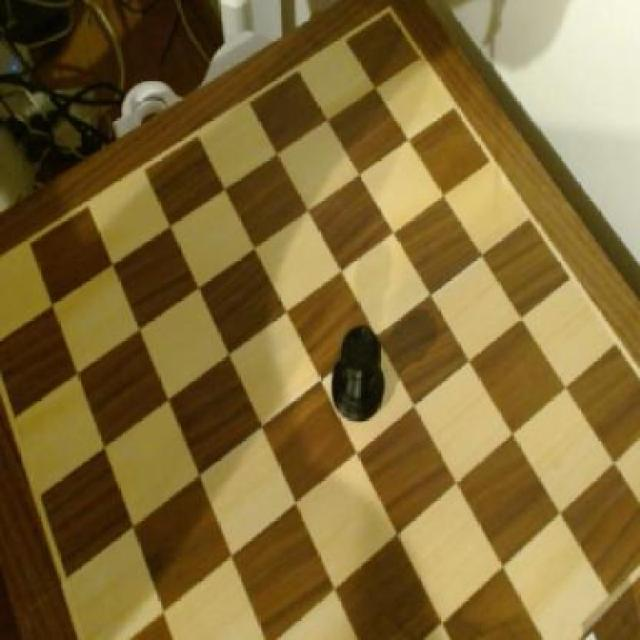black-queen: (330, 323, 388, 418)
